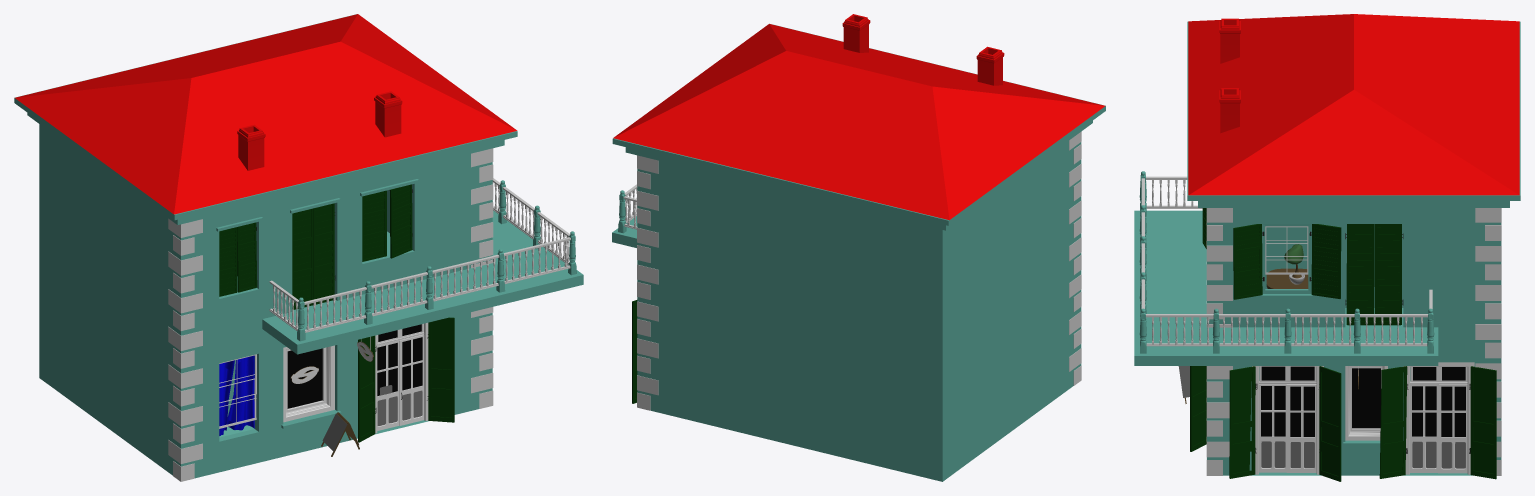
The model's file is house3_merged2.fbx.
3 views of the same model, side by side, from view 1: azimuth 30°, elevation 25°; view 2: azimuth 150°, elevation 25°; view 3: azimuth 270°, elevation 25° (orthographic). The views are drawn at different scales.
Visible parts, largest first — view 1: house3; view 2: house3; view 3: house3.
Part boxes in pixels (x1=…): house3: x1=14, y1=14, x2=583, y2=481; house3: x1=612, y1=14, x2=1105, y2=481; house3: x1=1134, y1=14, x2=1520, y2=481.
Bounding box in the file's own units: 9.19 × 7.64 × 7.71.
